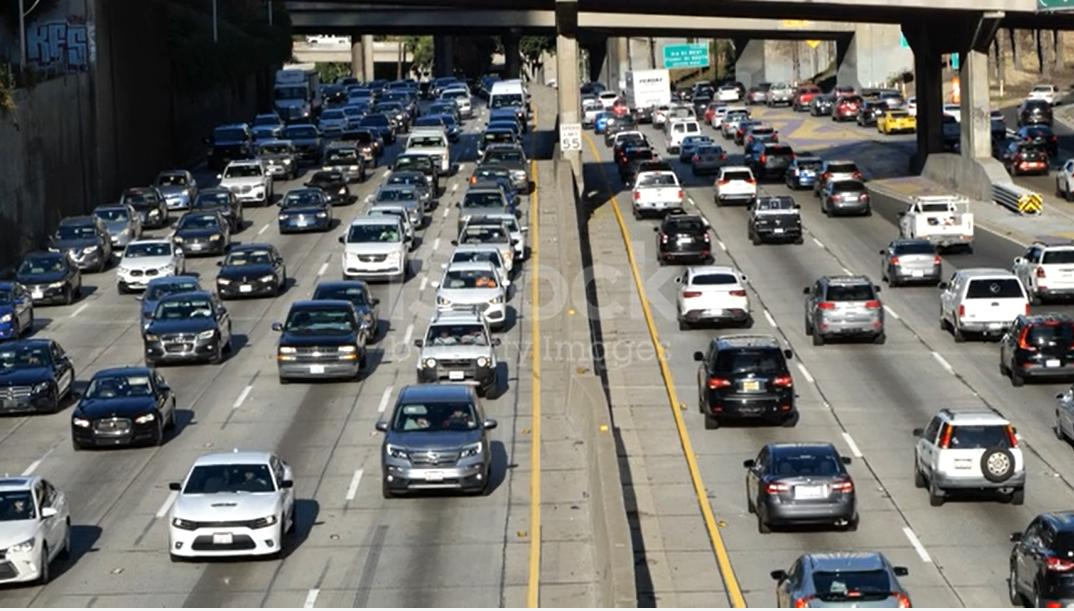car: (147, 443, 333, 577), (375, 363, 525, 512), (881, 383, 1030, 522), (731, 437, 888, 552), (678, 327, 815, 450), (0, 466, 108, 594), (65, 361, 191, 457), (275, 295, 384, 393), (927, 249, 1019, 348), (409, 301, 504, 396), (799, 257, 900, 346), (0, 319, 77, 428), (427, 254, 513, 346), (139, 288, 233, 368), (996, 301, 1069, 397), (103, 228, 188, 305), (338, 206, 411, 293), (679, 253, 744, 337), (651, 195, 721, 273), (1, 242, 86, 303), (210, 243, 284, 309), (740, 185, 810, 254), (885, 189, 970, 245), (882, 225, 947, 294), (208, 152, 276, 212), (618, 162, 684, 220), (170, 200, 232, 260), (276, 175, 334, 239), (450, 186, 517, 239), (816, 169, 870, 220), (710, 163, 762, 204)
